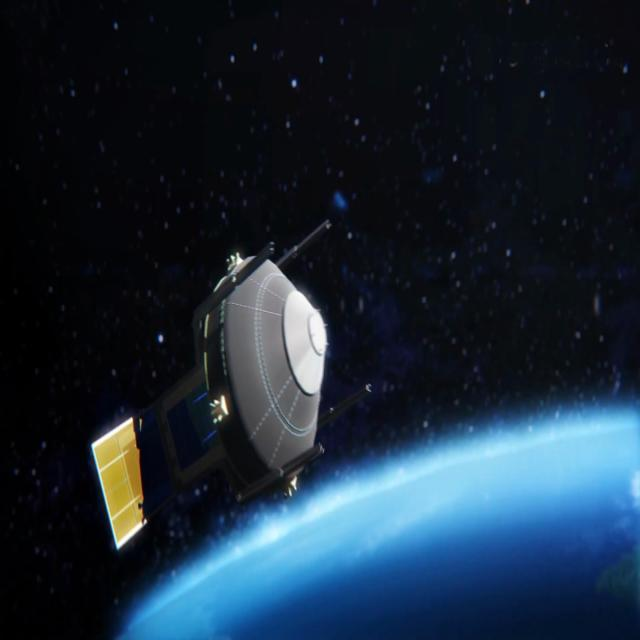sat: (92, 202, 382, 562)
